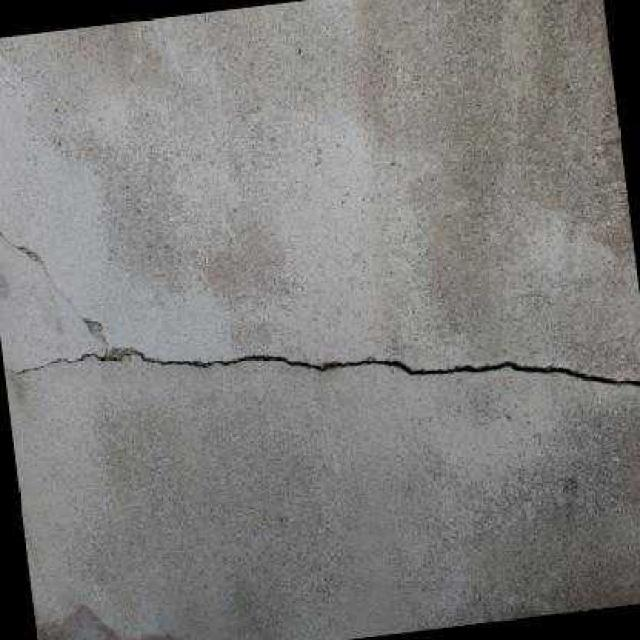D00: (47, 346, 640, 387)
